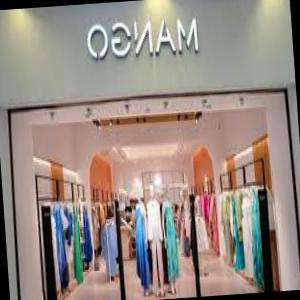mango: (85, 15, 204, 63)
